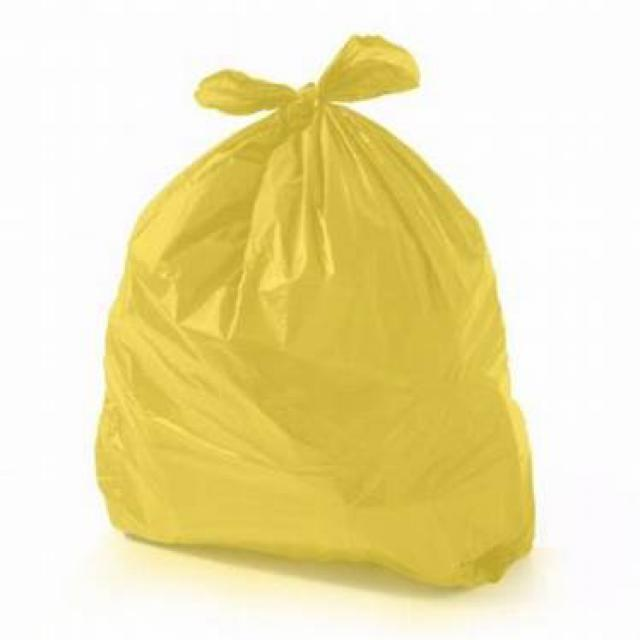waste: (104, 48, 522, 580)
